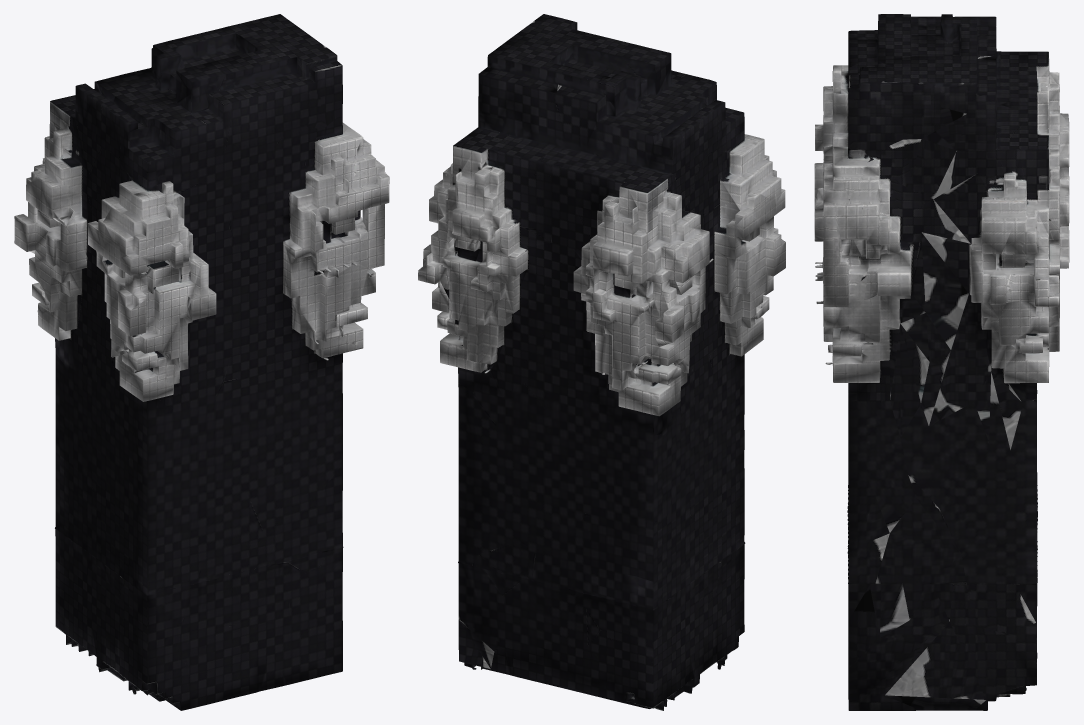
The model's file is kaiju_no14.obj.
The picture shows the model from 3 angles, left to right: view 1: azimuth 30°, elevation 25°; view 2: azimuth 150°, elevation 25°; view 3: azimuth 270°, elevation 25°; orthographic projection. The views are drawn at different scales.
Visible parts, largest first — view 1: kaiju_no14; view 2: kaiju_no14; view 3: kaiju_no14.
Part boxes in pixels (x1,y1,x2,y2): kaiju_no14: [14, 14, 389, 710]; kaiju_no14: [418, 14, 785, 710]; kaiju_no14: [814, 14, 1069, 710].
Size of the model in its own units: 2.63 by 6 by 2.2.
